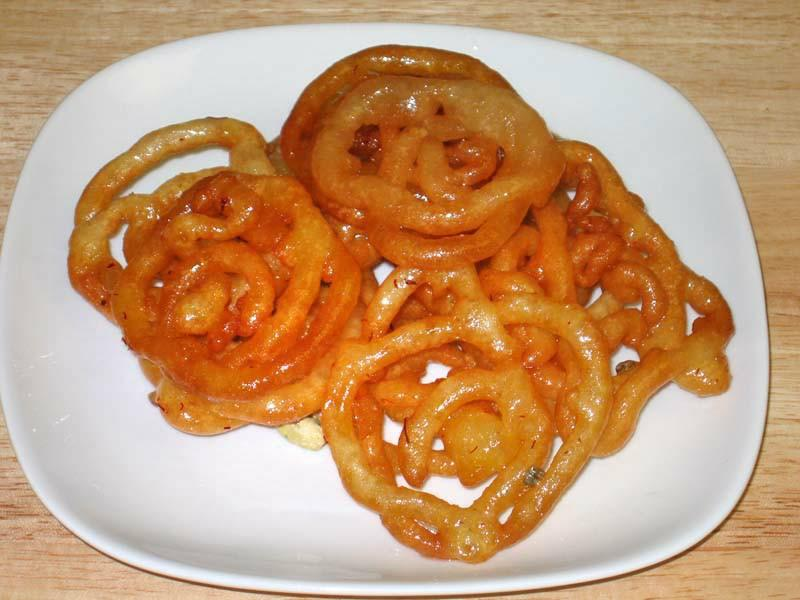Jalebi: (65, 40, 734, 560)
